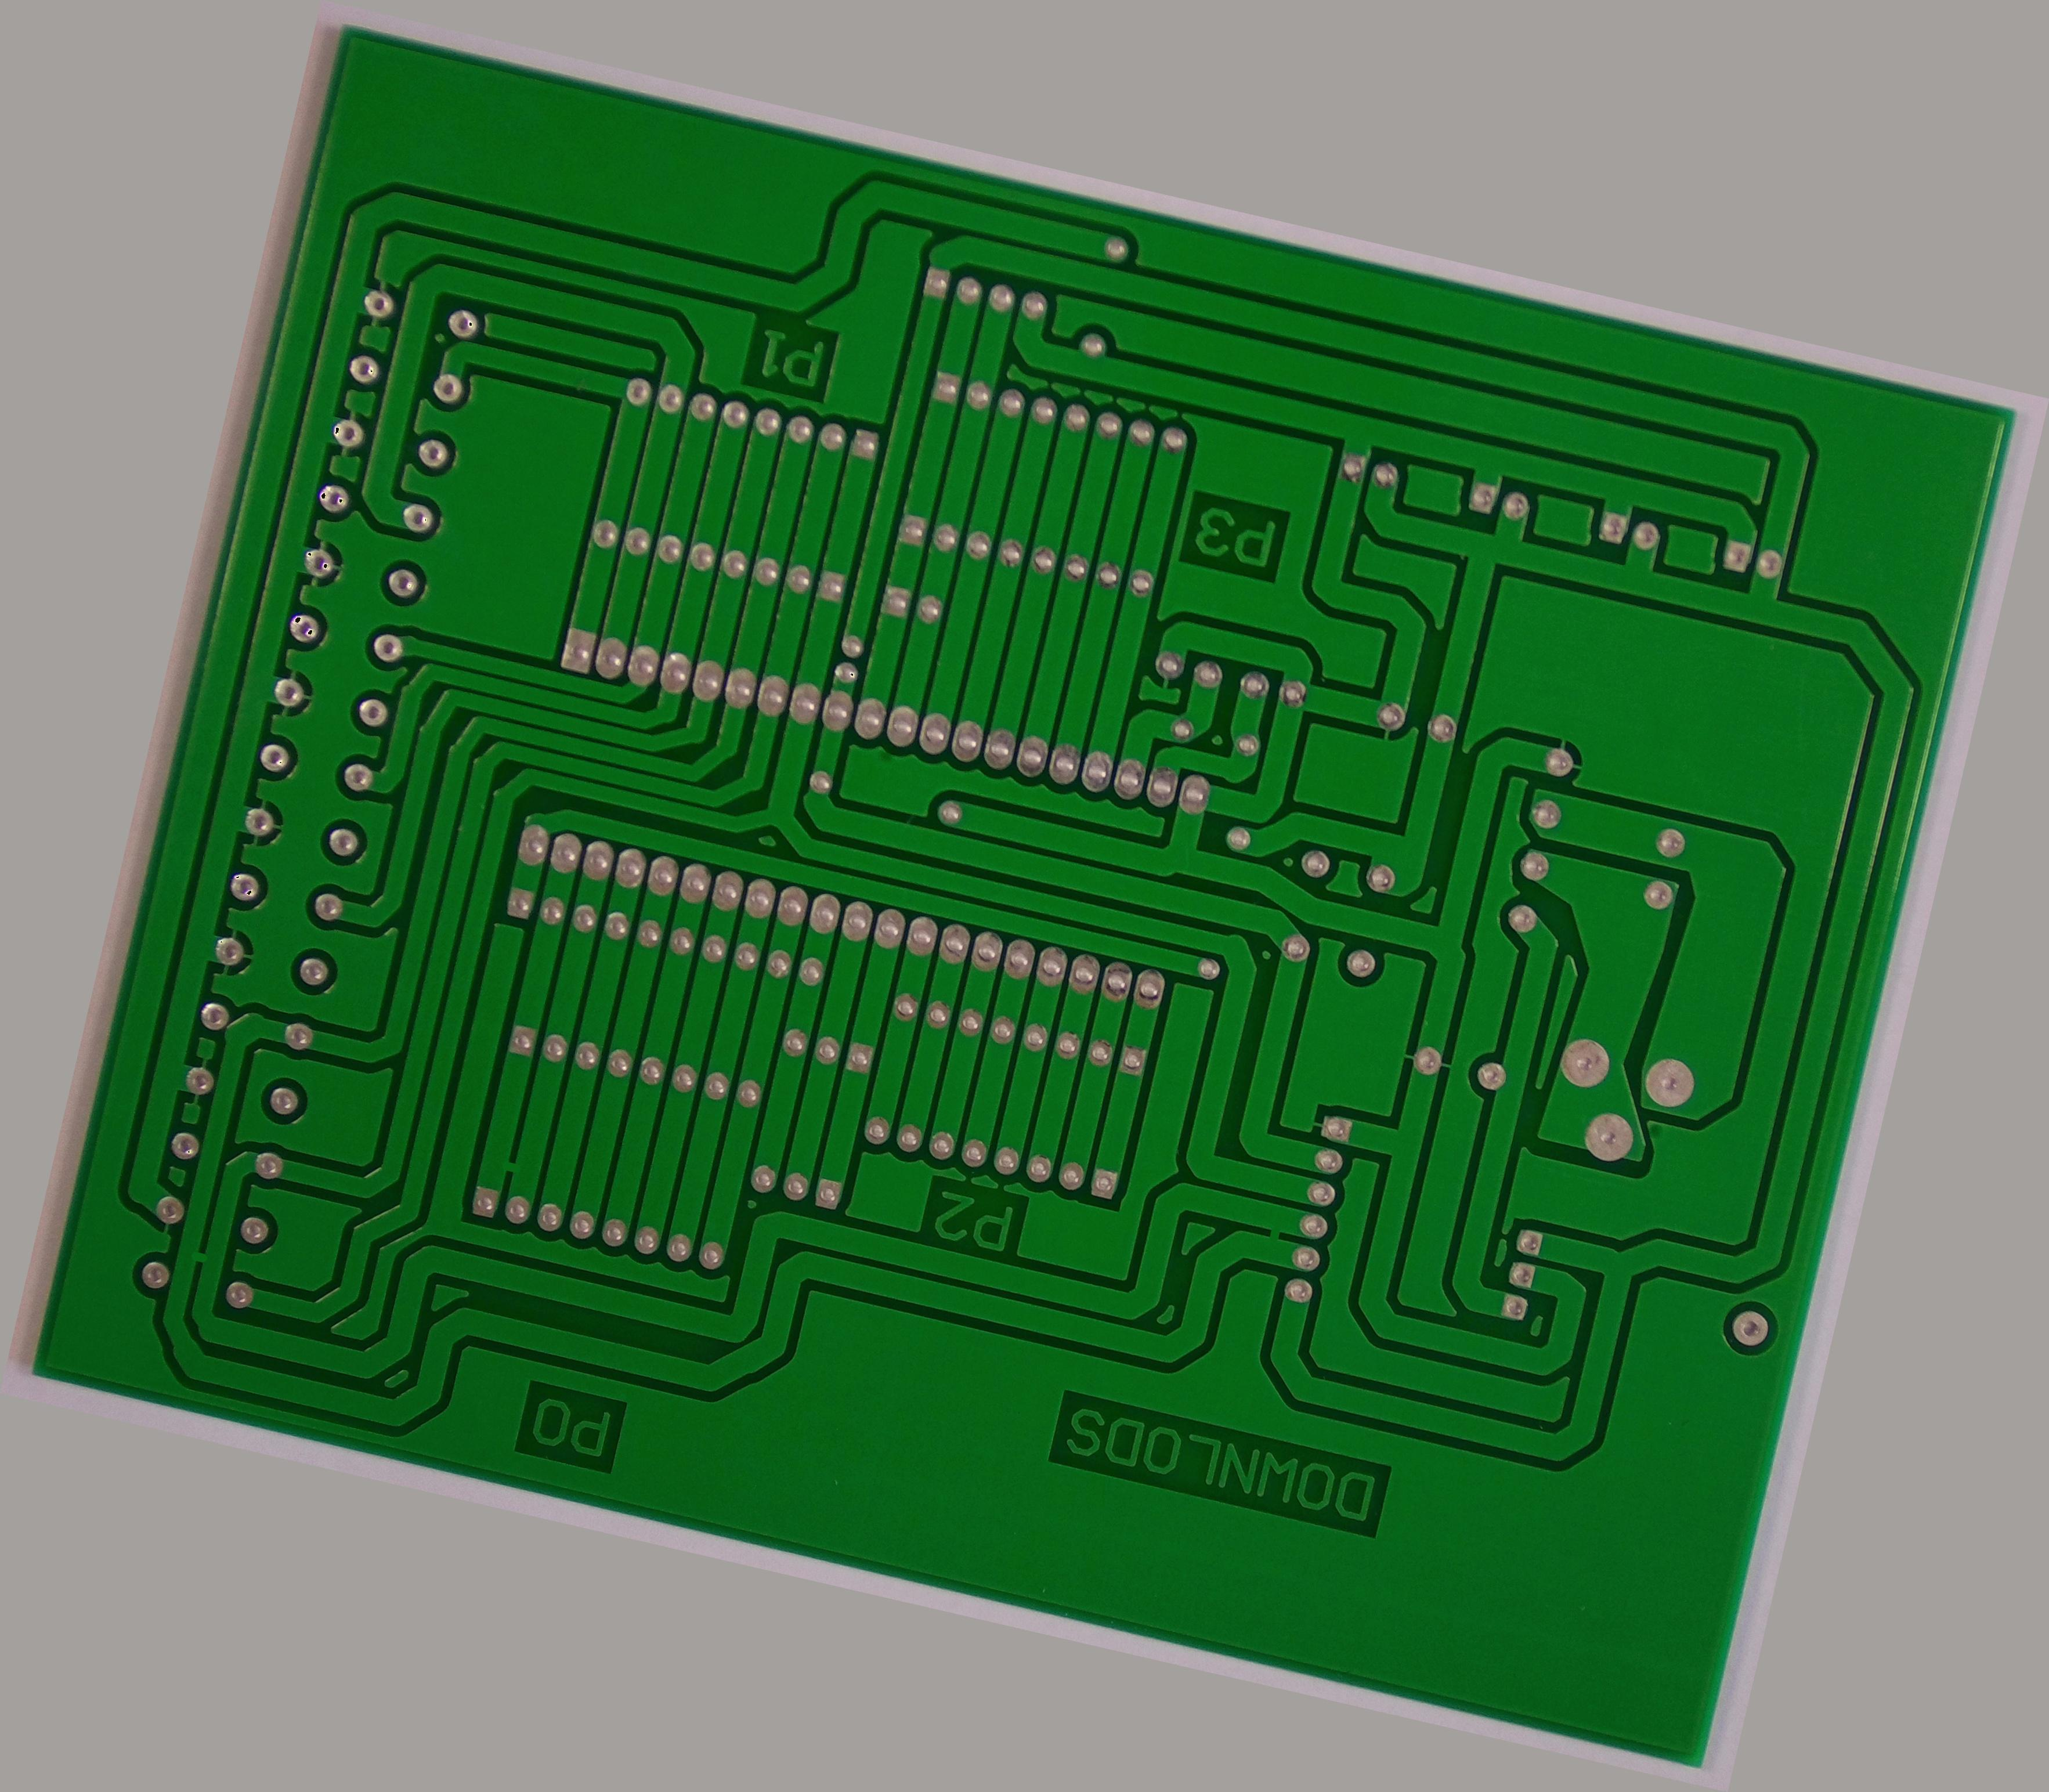short: (467, 1123, 551, 1196), (171, 1224, 235, 1286), (1249, 1203, 1303, 1264)
